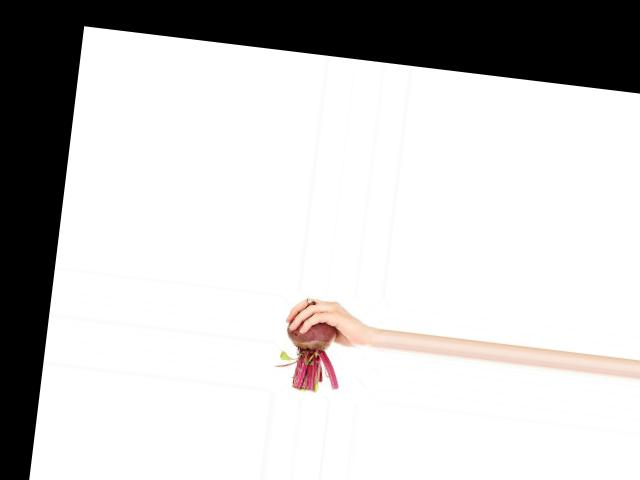beet: (273, 296, 348, 394)
